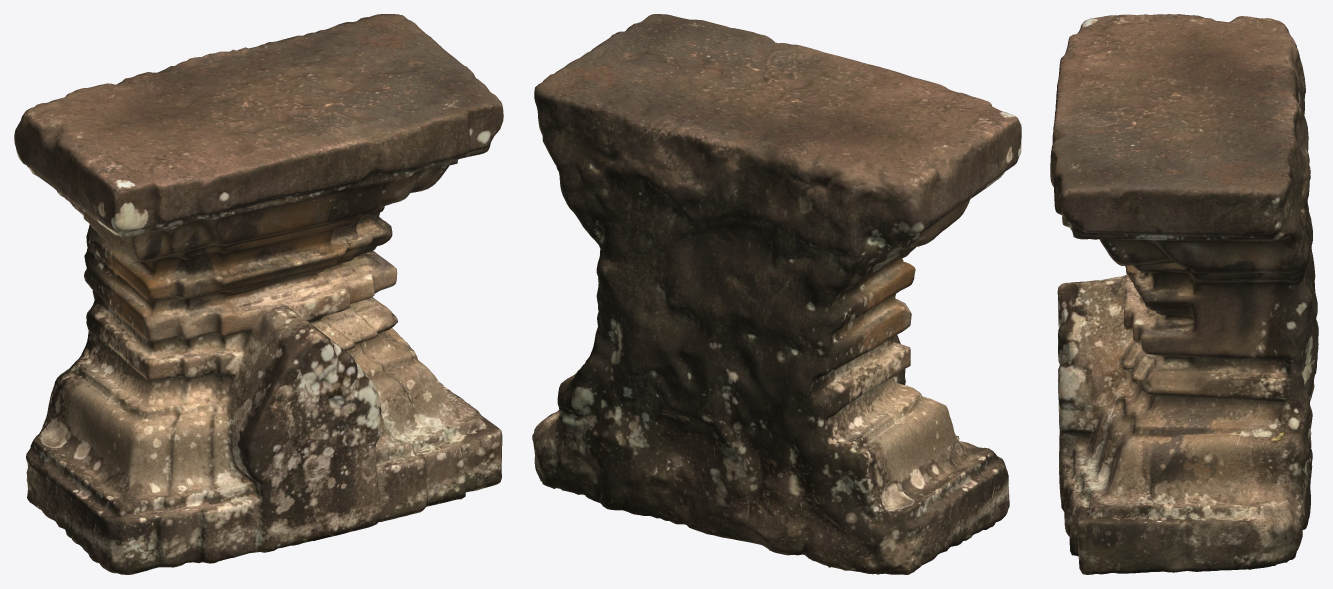
Rendered from 07_MysonSanctuaryD_VatTrangTriChanTuong_final.glb.
3 views of the same model, side by side, from view 1: azimuth 30°, elevation 25°; view 2: azimuth 150°, elevation 25°; view 3: azimuth 270°, elevation 25° (orthographic). The views are drawn at different scales.
Bounding box in the file's own units: 1.11 × 1.09 × 0.6785.
Materials: 1 (1 with a texture image).
